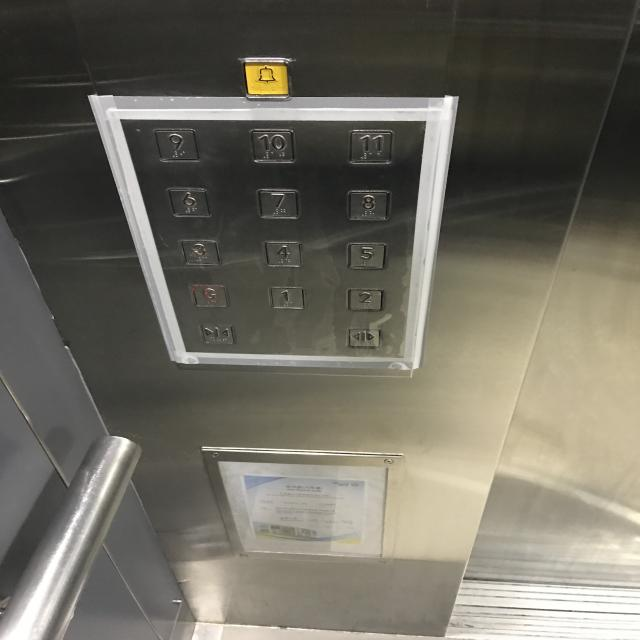1: (267, 284, 307, 310)
10: (247, 126, 298, 164)
11: (347, 128, 396, 166)
2: (345, 286, 386, 312)
3: (178, 238, 222, 267)
4: (260, 239, 304, 269)
5: (345, 240, 388, 272)
6: (163, 185, 213, 219)
7: (254, 187, 302, 221)
8: (346, 188, 391, 222)
9: (152, 127, 202, 163)
G: (186, 282, 232, 309)
alarm: (238, 56, 294, 102)
close: (198, 322, 238, 347)
open: (344, 326, 382, 349)
